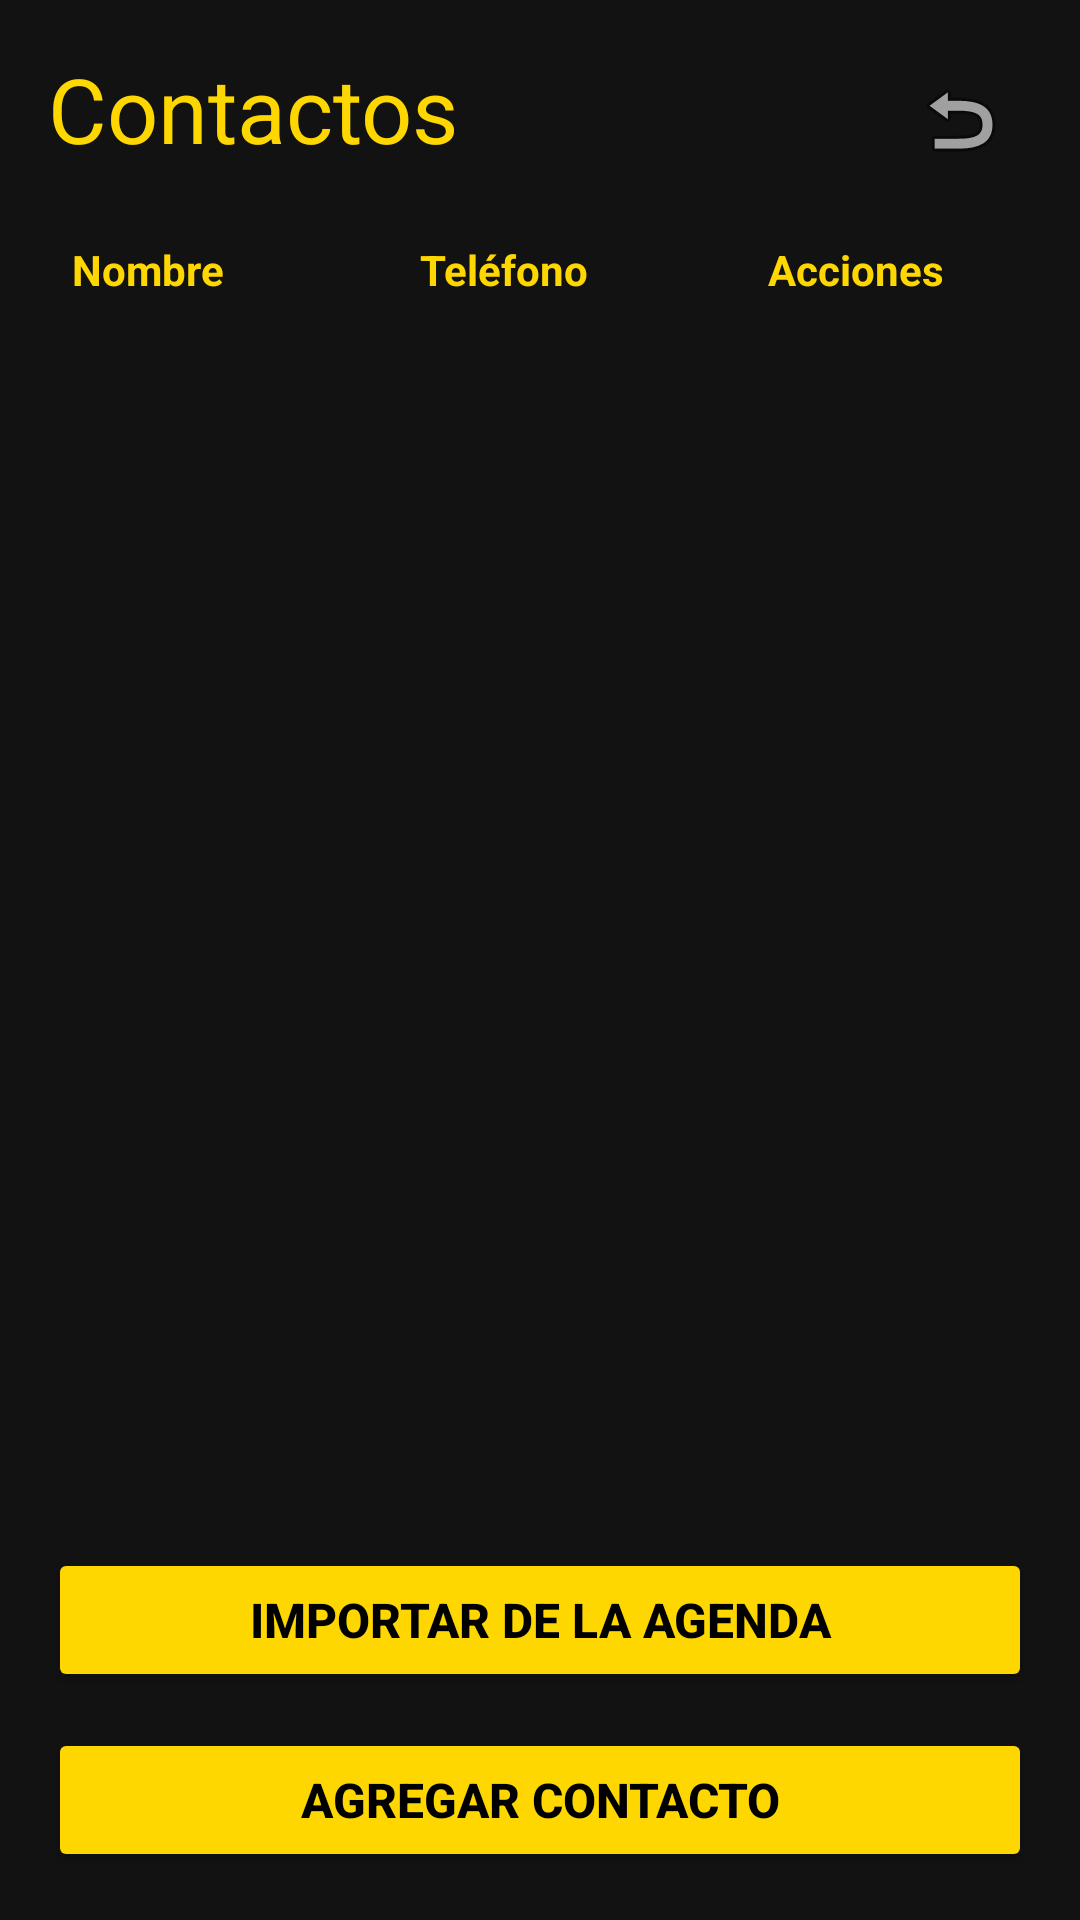

Screen size 1080px×1920px. Icon name, then its box in pixels as detection(x1, y1, x2, y2):
Volver a la pantalla principal: detection(930, 92, 993, 149)
